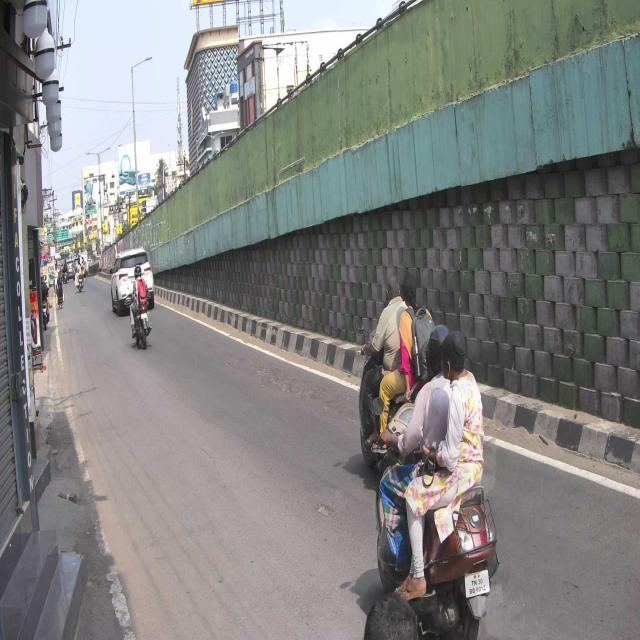double_rider: (378, 321, 503, 639)
